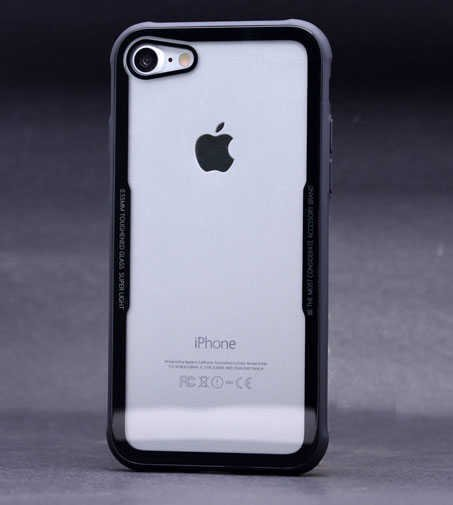apple: (188, 111, 247, 174)
